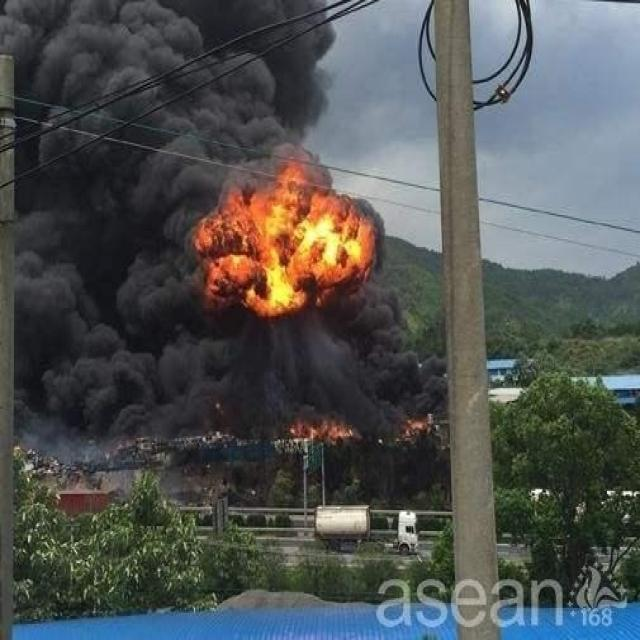Fire: (192, 158, 376, 320), (290, 418, 358, 442)
Smoke: (1, 1, 448, 464)
